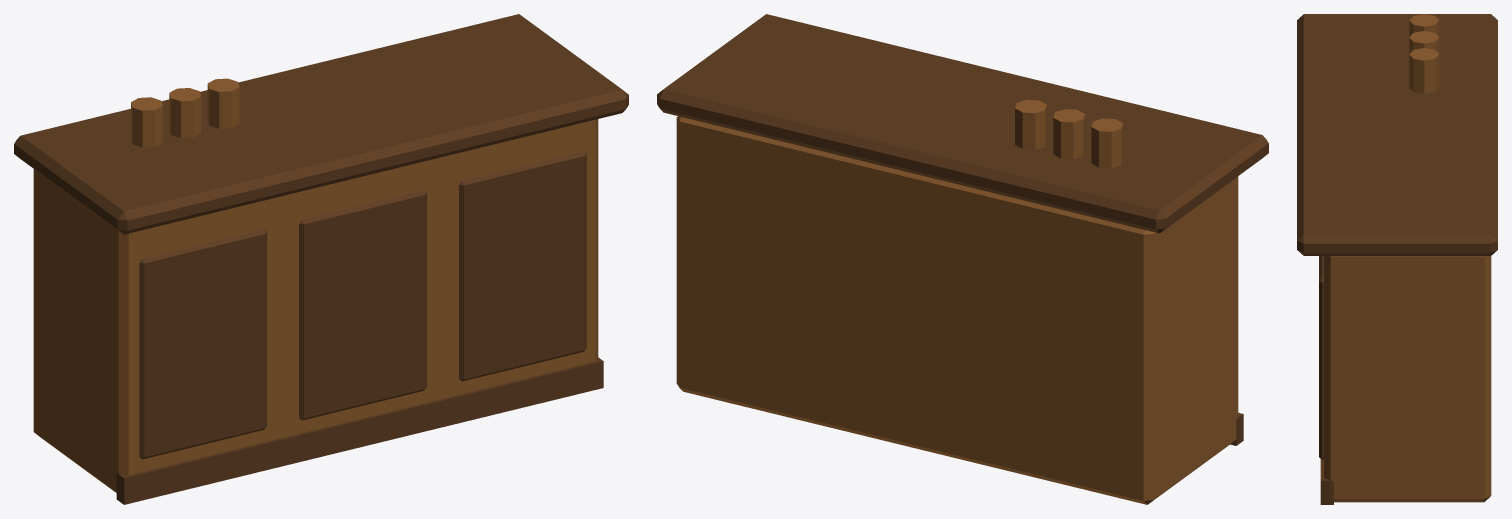
The model's file is PR_Furniture_Tezgah.fbx.
The picture shows the model from 3 angles, left to right: view 1: azimuth 30°, elevation 25°; view 2: azimuth 150°, elevation 25°; view 3: azimuth 270°, elevation 25°; orthographic projection. The views are drawn at different scales.
Visible parts, largest first — view 1: PR_Furniture_Tezgah; view 2: PR_Furniture_Tezgah; view 3: PR_Furniture_Tezgah.
Part boxes in pixels (bbox=[...]): PR_Furniture_Tezgah: bbox=[14, 14, 628, 504]; PR_Furniture_Tezgah: bbox=[657, 14, 1268, 504]; PR_Furniture_Tezgah: bbox=[1297, 14, 1497, 504].
Size of the model in its own units: 1.6 by 1.02 by 0.6.
Materials: 1 (1 with a texture image).
